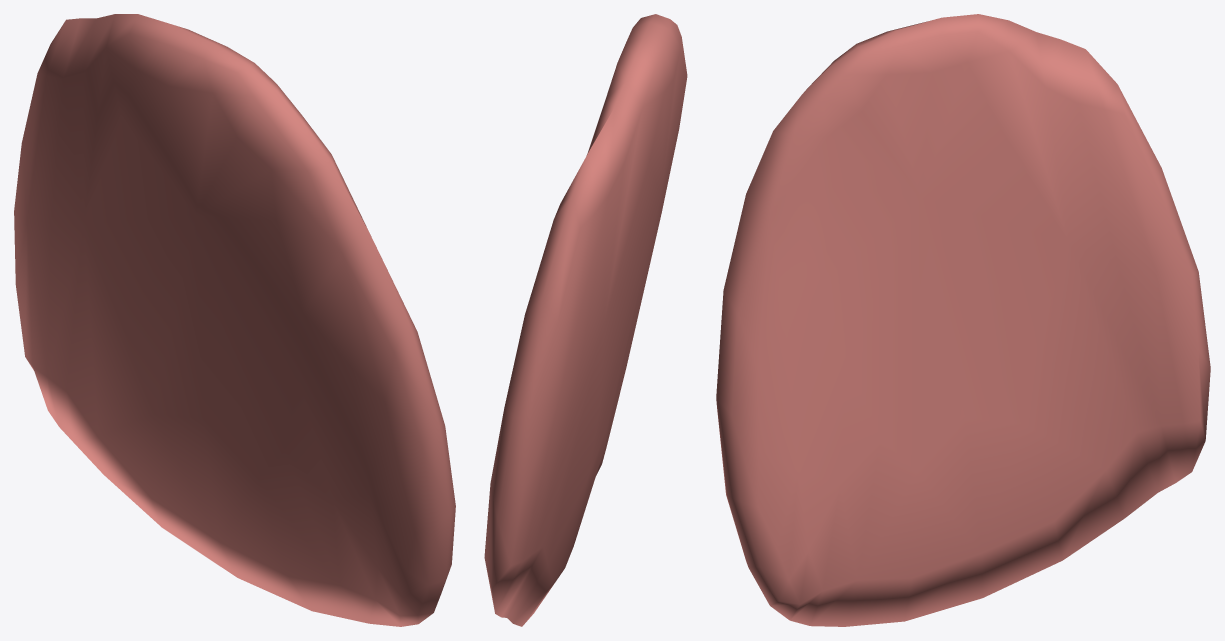
3 views of the same model, side by side, from view 1: azimuth 30°, elevation 25°; view 2: azimuth 150°, elevation 25°; view 3: azimuth 270°, elevation 25° (orthographic). The views are drawn at different scales.
Visible parts, largest first — view 1: ZA_f57ba673d8f4a877; view 2: ZA_f57ba673d8f4a877; view 3: ZA_f57ba673d8f4a877.
Part boxes in pixels (x1,y1,x2,y2): ZA_f57ba673d8f4a877: [14, 14, 455, 626]; ZA_f57ba673d8f4a877: [484, 14, 687, 626]; ZA_f57ba673d8f4a877: [716, 14, 1210, 626].
Bounding box in the file's own units: 0.00209 × 0.0055 × 0.00448.
